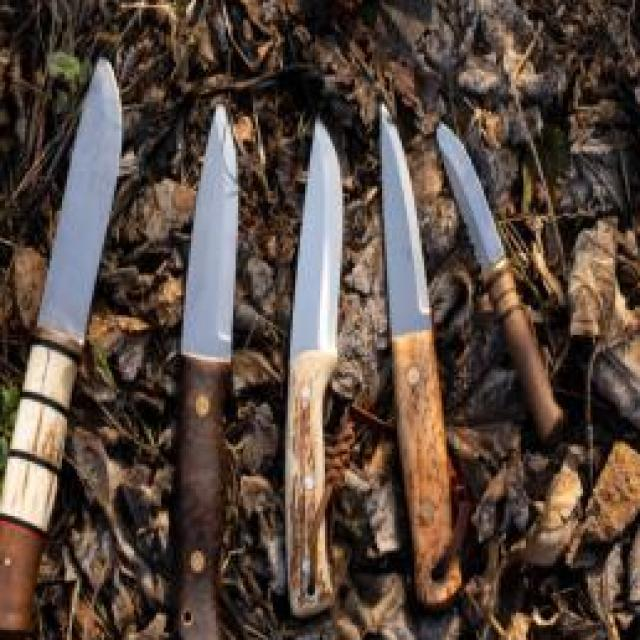knife: (0, 57, 127, 630), (377, 99, 468, 622), (432, 114, 566, 447), (176, 99, 241, 640), (283, 121, 346, 624)
